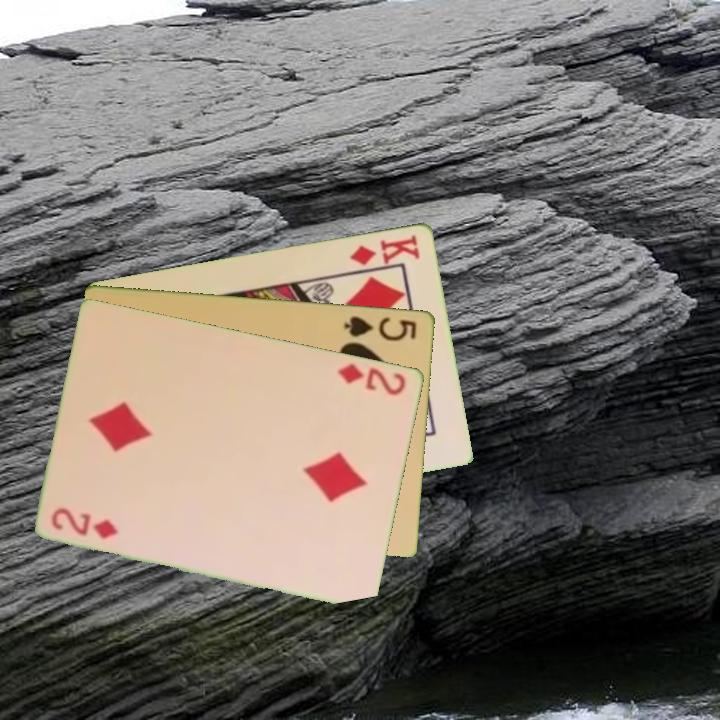2d: (334, 359, 409, 398), (48, 505, 122, 542)
5s: (341, 312, 420, 344)
Kd: (346, 231, 423, 268)
